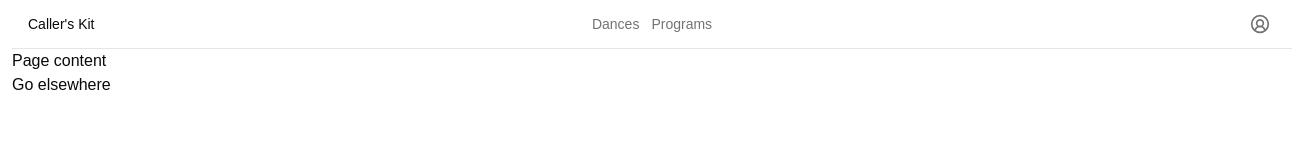
Test case: AppShell › navigates normally, with no prompt, when nothing is unsaved
This screenshot has width=1292, height=160.
Click the link "Go elsewhere". click: (61, 84)
box: [12, 76, 111, 93]
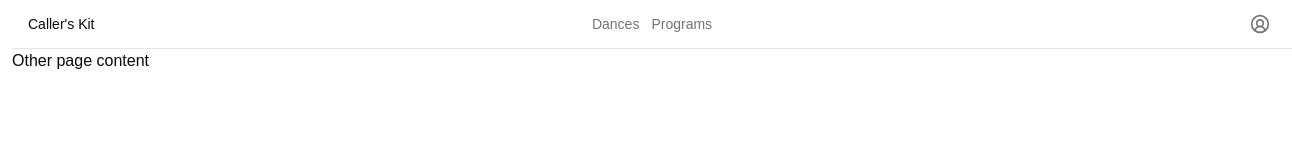
Expected: the text "Other page content" is shown, [12, 52, 149, 69]
